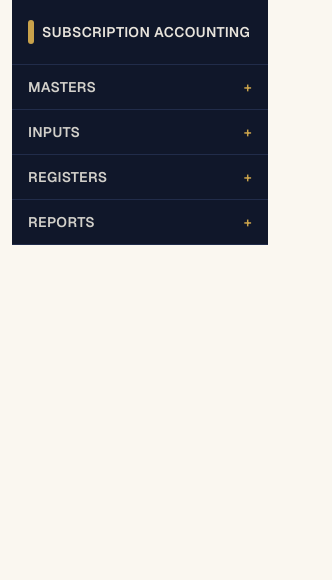
Test: Sidebar › collapses only the group whose header is clicked again
The width and height of the screenshot is (332, 580).
Click the button "Masters +": (140, 87) [12,65,268,109]
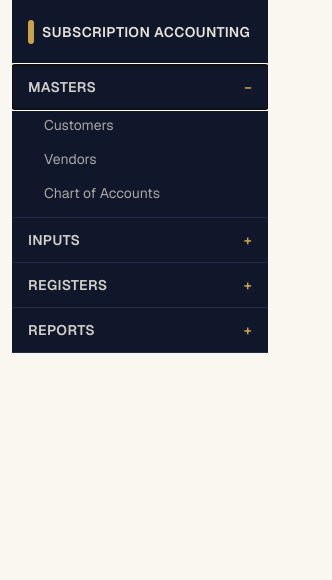
Click the button "Inputs +": (140, 240) [12,218,268,262]
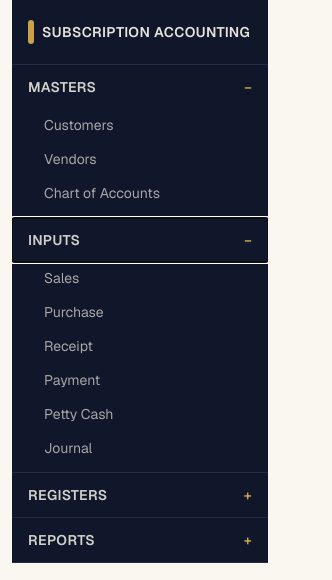
Click the button "Masters −": (140, 87) [12,65,268,109]
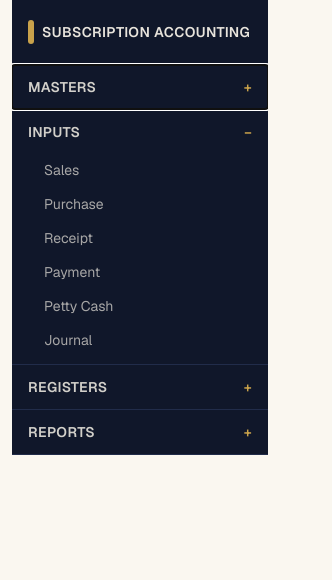
Expected: the link "Sales" is shown, [44,161,79,179]
Expected: the link "Customers" is gone
